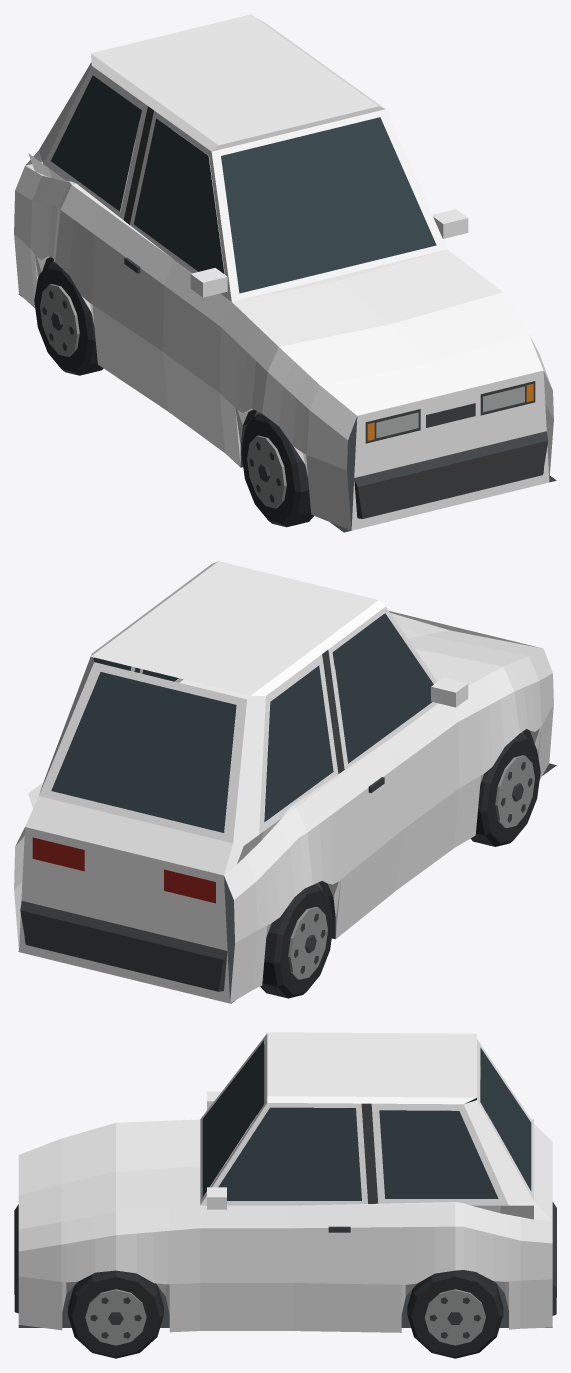
Rendered from kanaya_shirasagi.glb.
The picture shows the model from 3 angles, top to bottom: view 1: azimuth 30°, elevation 25°; view 2: azimuth 150°, elevation 25°; view 3: azimuth 270°, elevation 25°; orthographic projection. The views are drawn at different scales.
Visible parts, largest first — view 1: kanaya_shirasagi; view 2: kanaya_shirasagi; view 3: kanaya_shirasagi.
Boxes of the visible parts, bbox=[...] form: kanaya_shirasagi: bbox=[14, 14, 556, 532]; kanaya_shirasagi: bbox=[14, 561, 556, 1003]; kanaya_shirasagi: bbox=[14, 1032, 556, 1358].
Bounding box in the file's own units: 1.49 × 1.62 × 3.23.
8 materials, 1 textured.
